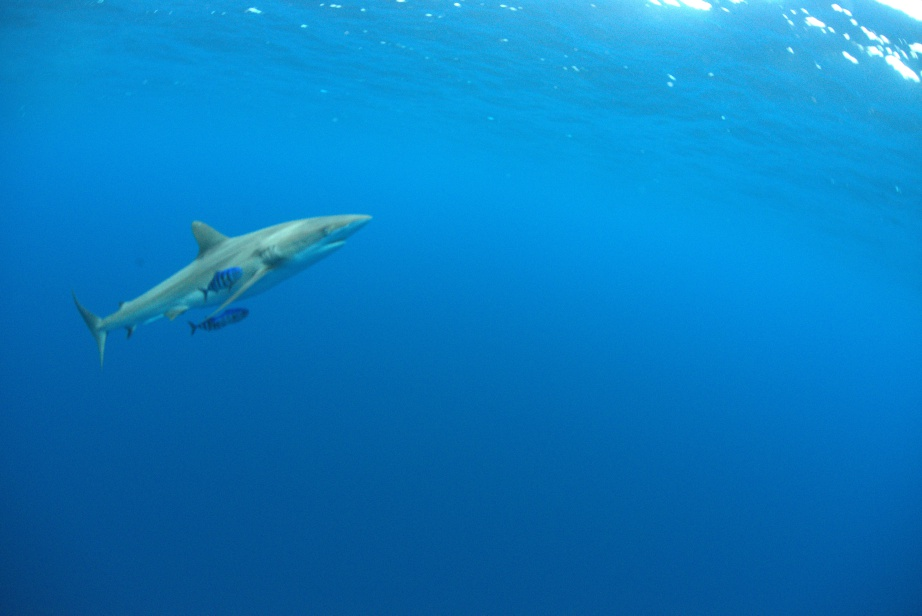Sedoso: (55, 188, 392, 375)
